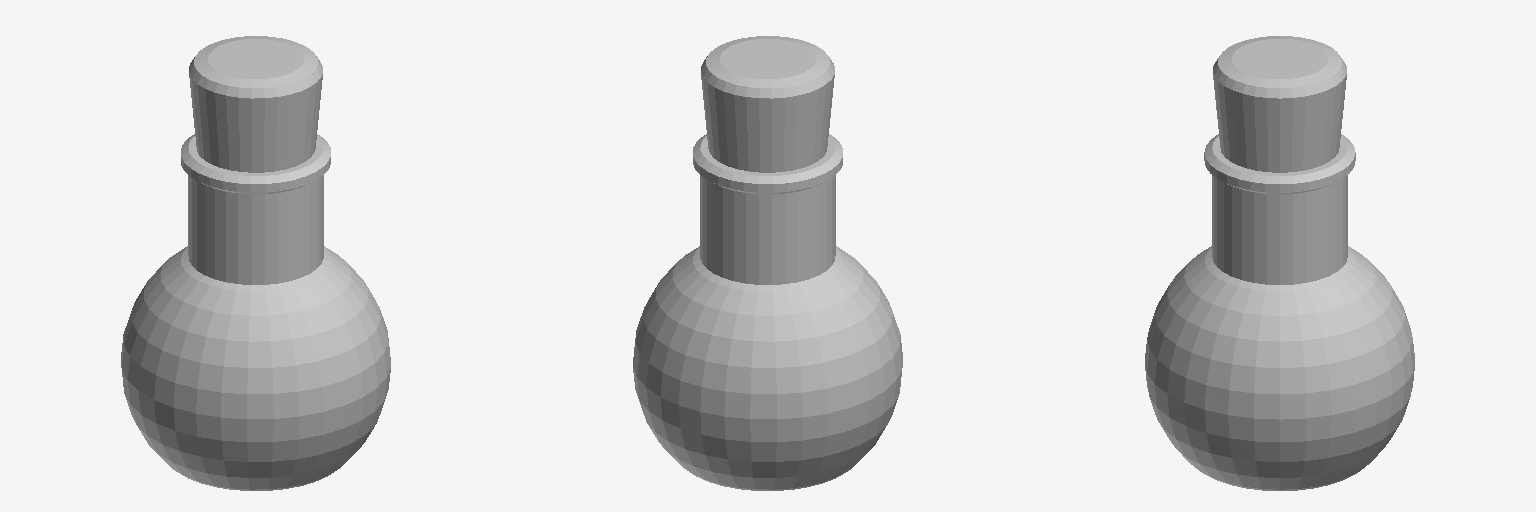
Rendered from potion_consequente.obj.
3 renders of one model, left to right at view 1: azimuth 30°, elevation 25°; view 2: azimuth 150°, elevation 25°; view 3: azimuth 270°, elevation 25°, orthographic.
Visible parts, largest first — view 1: Cylindre.001, Cylindre; view 2: Cylindre.001, Cylindre; view 3: Cylindre.001, Cylindre.
Boxes of the visible parts, x1,y1,x2,y2 form: Cylindre.001: [121, 134, 390, 490]; Cylindre: [189, 36, 322, 172]; Cylindre.001: [633, 134, 902, 490]; Cylindre: [701, 36, 834, 172]; Cylindre.001: [1145, 134, 1414, 490]; Cylindre: [1213, 36, 1346, 172].
Bounding box in the file's own units: 0.05 × 0.0802 × 0.05.